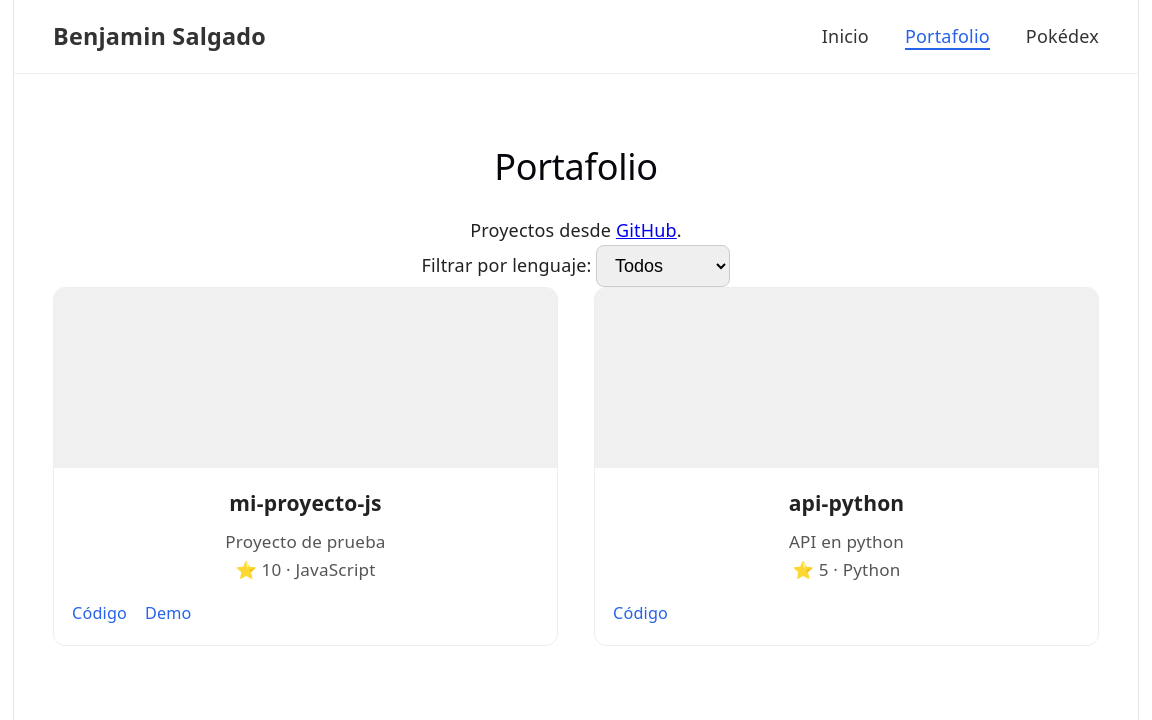
Scenario: App › filtra proyectos por lenguaje
Check: the heading "mi-proyecto-js" is shown, box [229,488,382,517]
Select "Python" in the dropdown labelled "Filtrar por lenguaje:" at coordinates (664, 266), box [596,245,730,287]
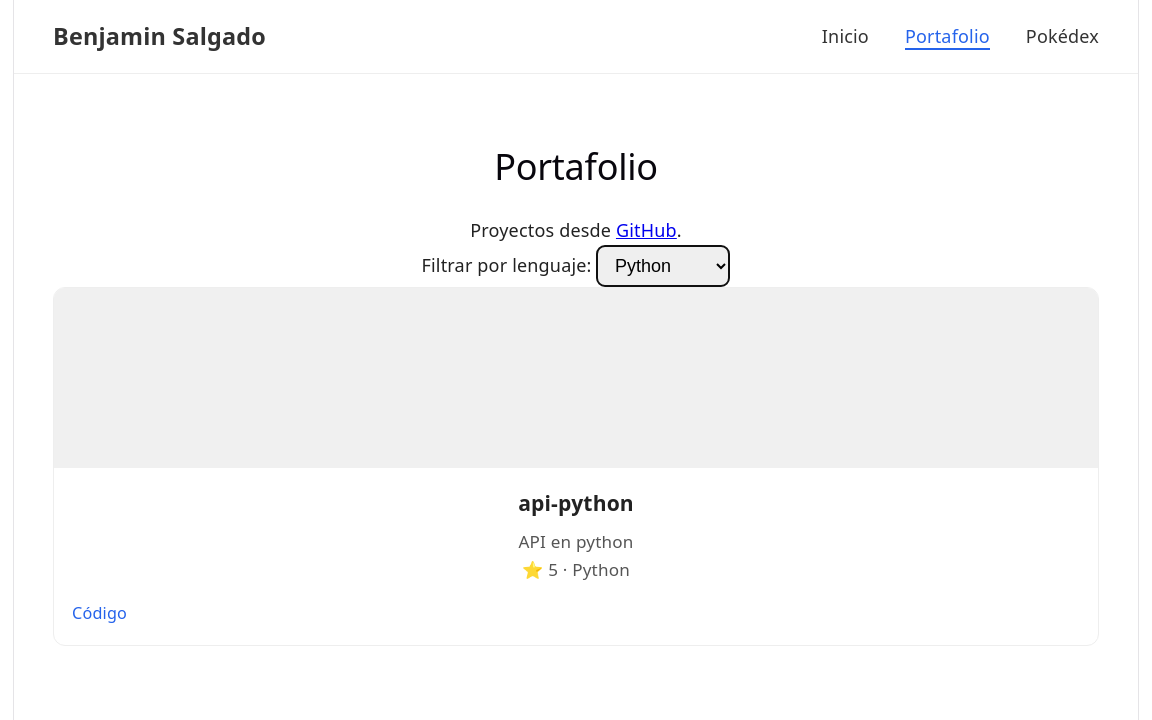
Check: the heading "api-python" is shown, box [518,488,634,517]
Check: the heading "mi-proyecto-js" is gone
